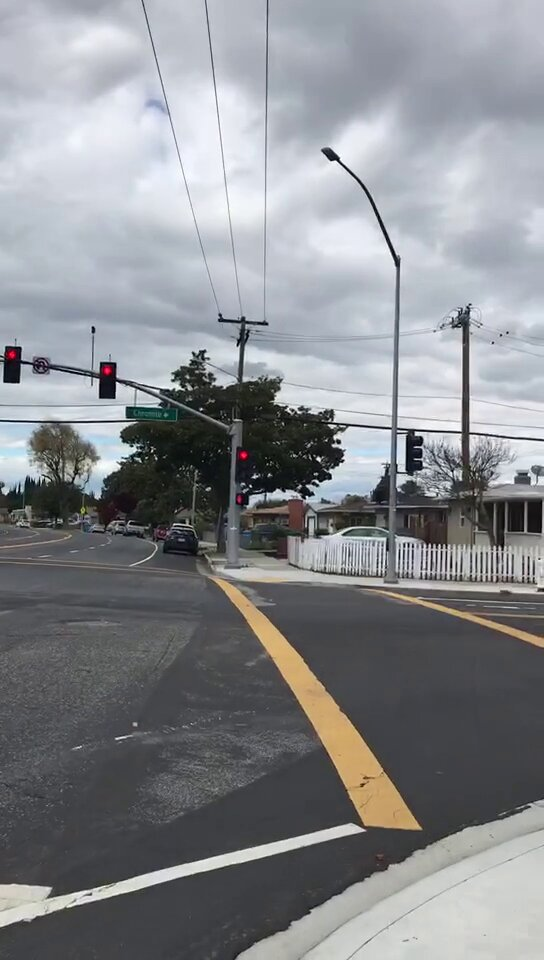red_light: (236, 446, 252, 483), (100, 363, 116, 397), (5, 346, 20, 381)
